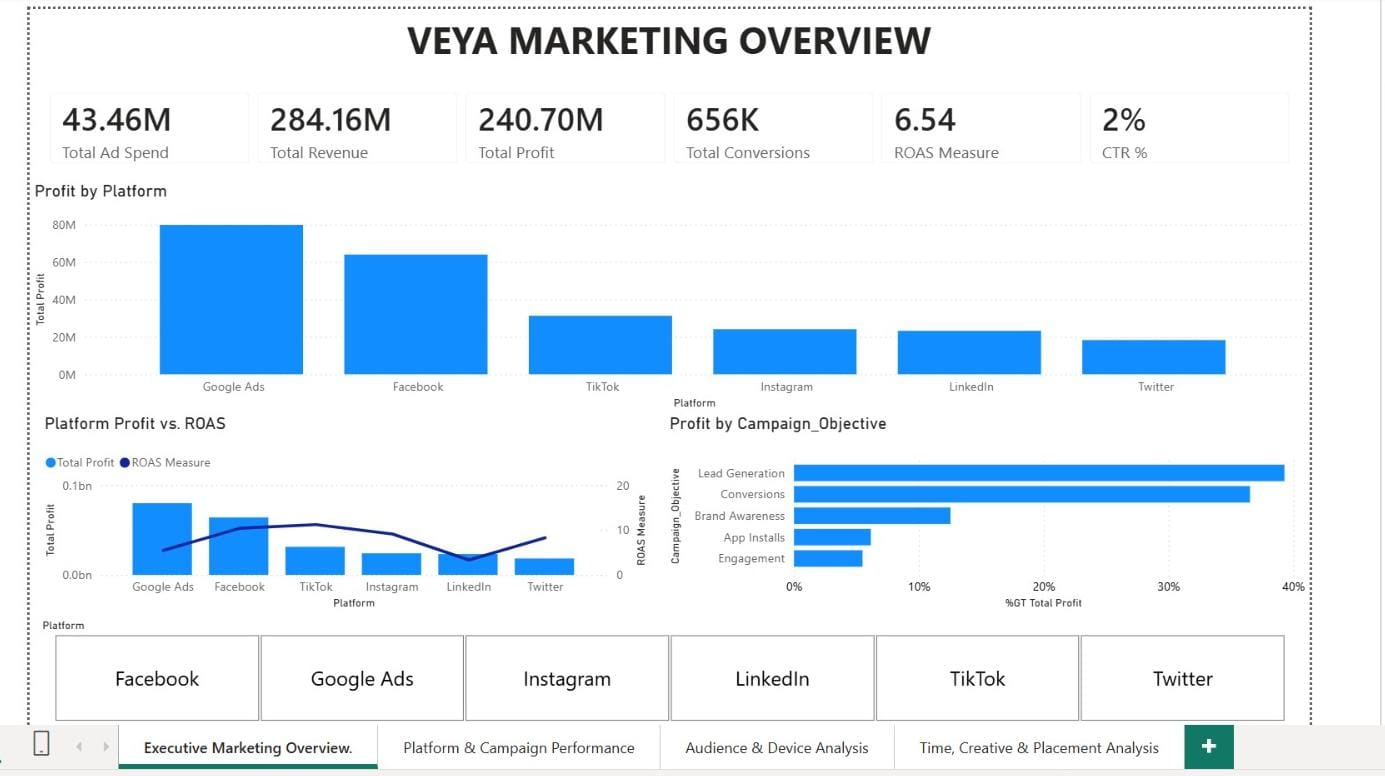

Layout of this report page (visuals, bound fields, positions):
{"tool":"powerbi","page":{"name":"Executive Marketing Overview.","canvas":[1280,720],"ordinal":0},"visuals":[{"type":"cardVisual","fields":{"Data":["tech_advertising_campaigns_data.Total Ad Spend","tech_advertising_campaigns_data.Total Revenue","tech_advertising_campaigns_data.Total Profit","tech_advertising_campaigns_data.Total Conversions","tech_advertising_campaigns_data.ROAS Measure","tech_advertising_campaigns_data.CTR %"]},"box":[2,65.7,1278.7,105.6],"z":0},{"type":"lineStackedColumnComboChart","title":"Profit by Platform","fields":{"Category":["tech_advertising_campaigns_data.Platform"],"Y":["tech_advertising_campaigns_data.Total Profit"]},"box":[0,171.3,1278.7,233],"z":1000},{"type":"lineClusteredColumnComboChart","title":"Platform Profit vs. ROAS","fields":{"Category":["tech_advertising_campaigns_data.Platform"],"Y":["tech_advertising_campaigns_data.Total Profit"],"Y2":["tech_advertising_campaigns_data.ROAS Measure"]},"box":[10,404.3,611.5,201.2],"z":2000},{"type":"clusteredBarChart","title":"Profit by Campaign_Objective","fields":{"Category":["tech_advertising_campaigns_data.Campaign_Objective"],"Y":["tech_advertising_campaigns_data.Total Profit"]},"box":[635.4,404.3,645.3,201.2],"z":3000},{"type":"slicer","fields":{"Values":["tech_advertising_campaigns_data.Platform"]},"box":[0,605.5,1278.7,113.5],"z":4000},{"type":"textbox","box":[0,0,1278.7,65.7],"z":5000}]}

Visuals, with their boxes on the page's 1280x720 design canvas (x1, y1, x2, y2). These are canvas units, not pixel positions in the 1385x776 screenshot, which may show the page scaled, cropped or inside an application window:
cardVisual - tech_advertising_campaigns_data.Total Ad Spend x tech_advertising_campaigns_data.Total Revenue: <box>2,66,1281,171</box>
"Profit by Platform" lineStackedColumnComboChart: <box>0,171,1279,404</box>
"Platform Profit vs. ROAS" lineClusteredColumnComboChart: <box>10,404,622,606</box>
"Profit by Campaign_Objective" clusteredBarChart: <box>635,404,1281,606</box>
slicer - tech_advertising_campaigns_data.Platform: <box>0,606,1279,719</box>
textbox: <box>0,0,1279,66</box>
